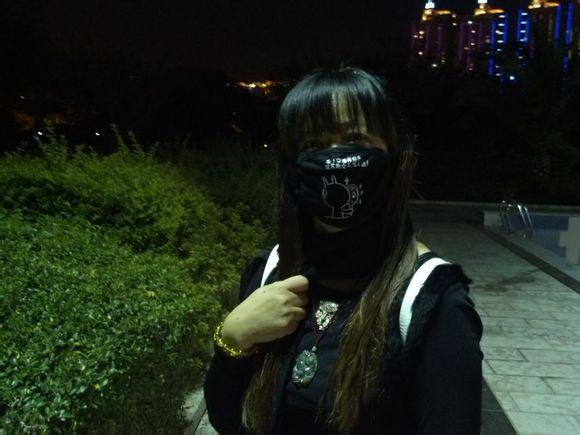OK: (290, 122, 392, 224)
